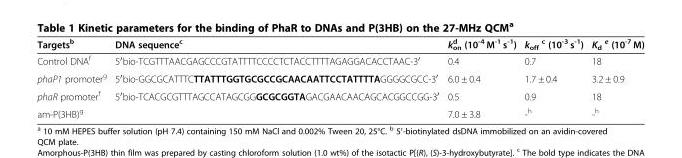table: (36, 36, 643, 119)
table column: (110, 36, 442, 119), (442, 36, 519, 119), (36, 36, 110, 119), (519, 36, 586, 119), (586, 36, 643, 119)
table column header: (36, 36, 643, 52)
table row: (36, 86, 643, 104), (36, 52, 643, 69), (36, 69, 643, 86), (36, 36, 643, 52), (36, 104, 643, 119)
